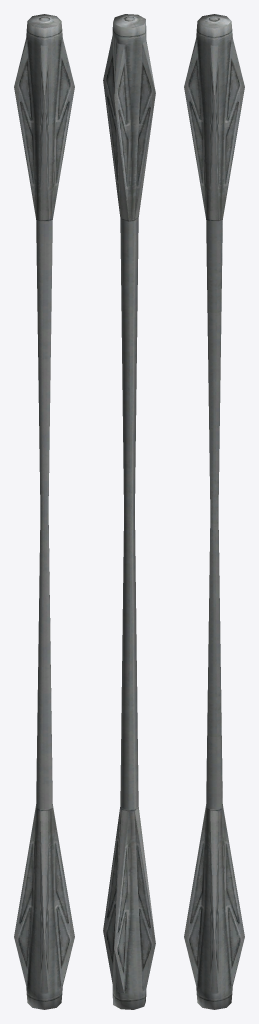
Rendered from wp_mle_lance_kaminoan_greatstaff_l1.fbx.
The picture shows the model from 3 angles, left to right: view 1: azimuth 90°, elevation 25°; view 2: azimuth 150°, elevation 25°; view 3: azimuth 270°, elevation 25°; orthographic projection.
Parts seen in each view (by area): view 1: mesh_node; view 2: mesh_node; view 3: mesh_node.
Part boxes in pixels (left/top/right/bottom): mesh_node: left=14, top=14, right=74, bottom=1009; mesh_node: left=103, top=14, right=155, bottom=1009; mesh_node: left=184, top=14, right=244, bottom=1009.
Bounding box in the file's own units: 0.0841 × 1.5 × 0.0841.
Materials: 1 (1 with a texture image).
